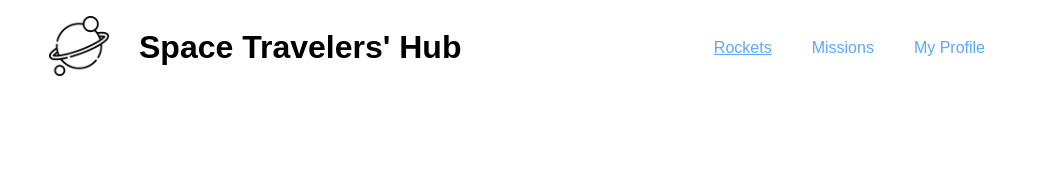
Test: Testing Mission in Application › Test join functionality
Click the link "Missions". click: (843, 47)
box: x1=812 y1=39 x2=874 y2=56
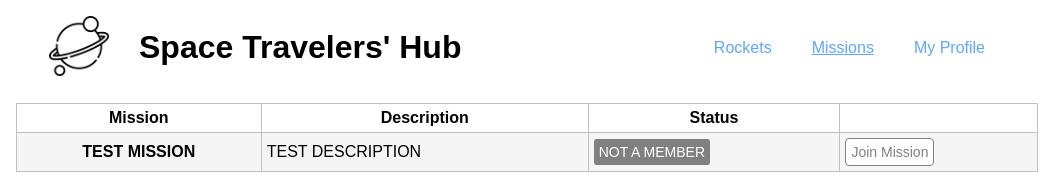
Click the button "Join Mission". click: (890, 152)
box: x1=845 y1=138 x2=934 y2=166
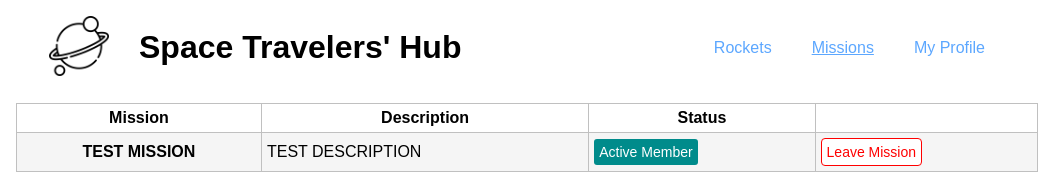
expect the text with test id "badge" reads "Active Member": met, box x1=599 y1=144 x2=693 y2=160
